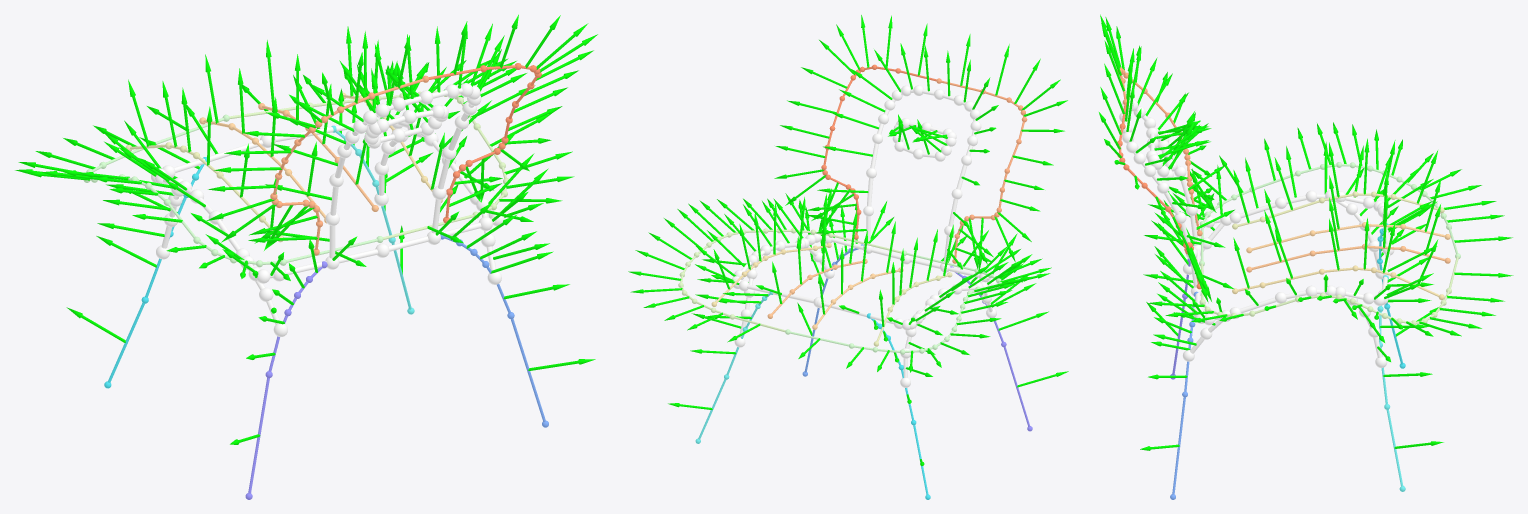
File: author1_chair.gltf
3 views of the same model, side by side, from view 1: azimuth 30°, elevation 25°; view 2: azimuth 150°, elevation 25°; view 3: azimuth 270°, elevation 25° (orthographic). The views are drawn at different scales.
Bounding box in the file's own units: 0.7474 × 0.709 × 0.6871.
